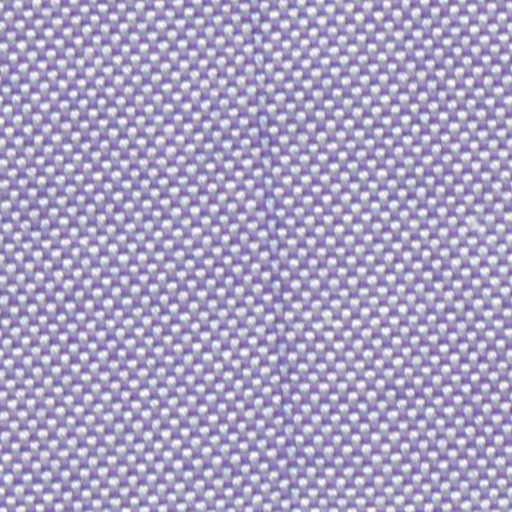TuoSha: (234, 10, 316, 506)
